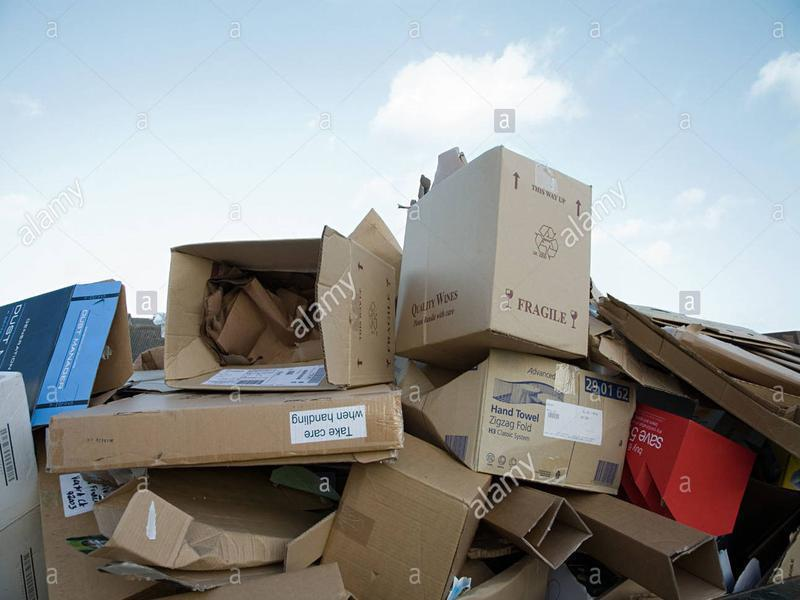cardboard: (151, 209, 403, 389), (396, 146, 597, 361), (600, 280, 800, 456), (406, 351, 633, 498), (35, 392, 415, 477), (322, 435, 497, 600), (1, 274, 140, 429), (629, 405, 758, 540)
